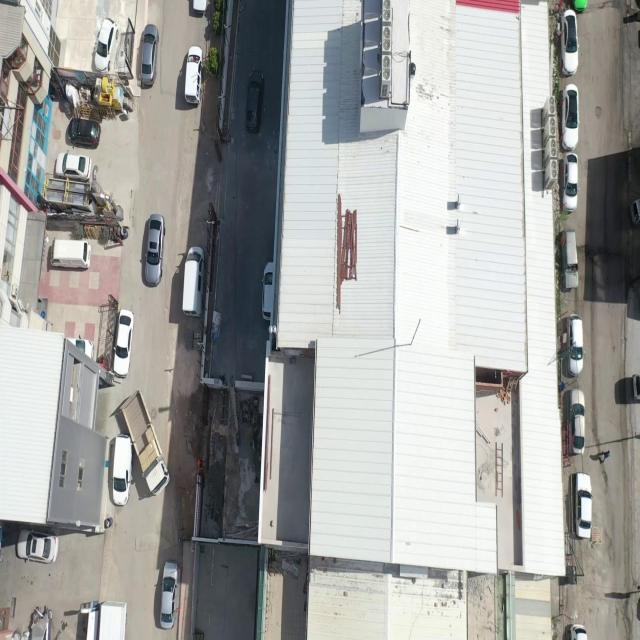p3rson: (600, 451, 610, 464)
